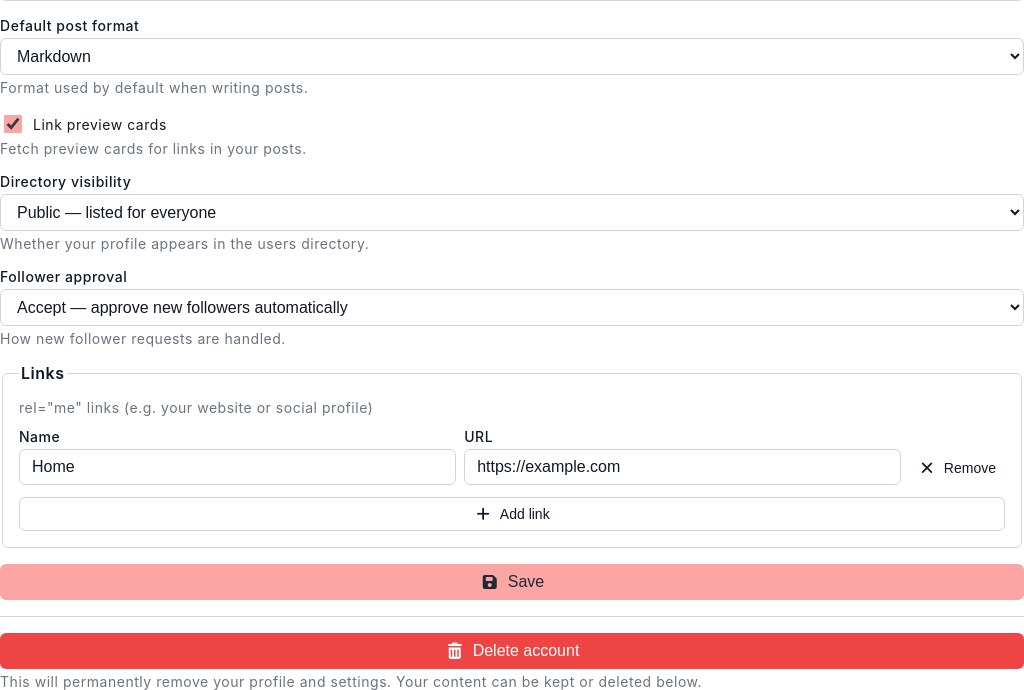
Scenario: ProfileTab › opens the delete account dialog when the delete button is clicked
(page scrolled)
Click the button "Delete account" at (512, 651), box [0,633,1023,669]
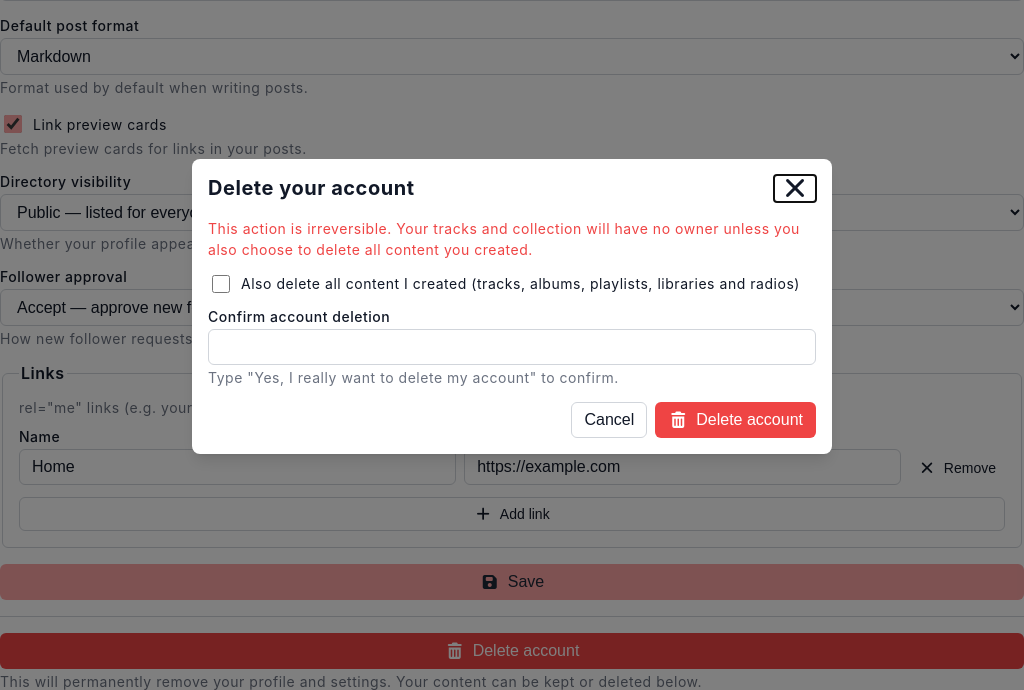
expect the dialog is shown: met, box [192,158,832,454]
